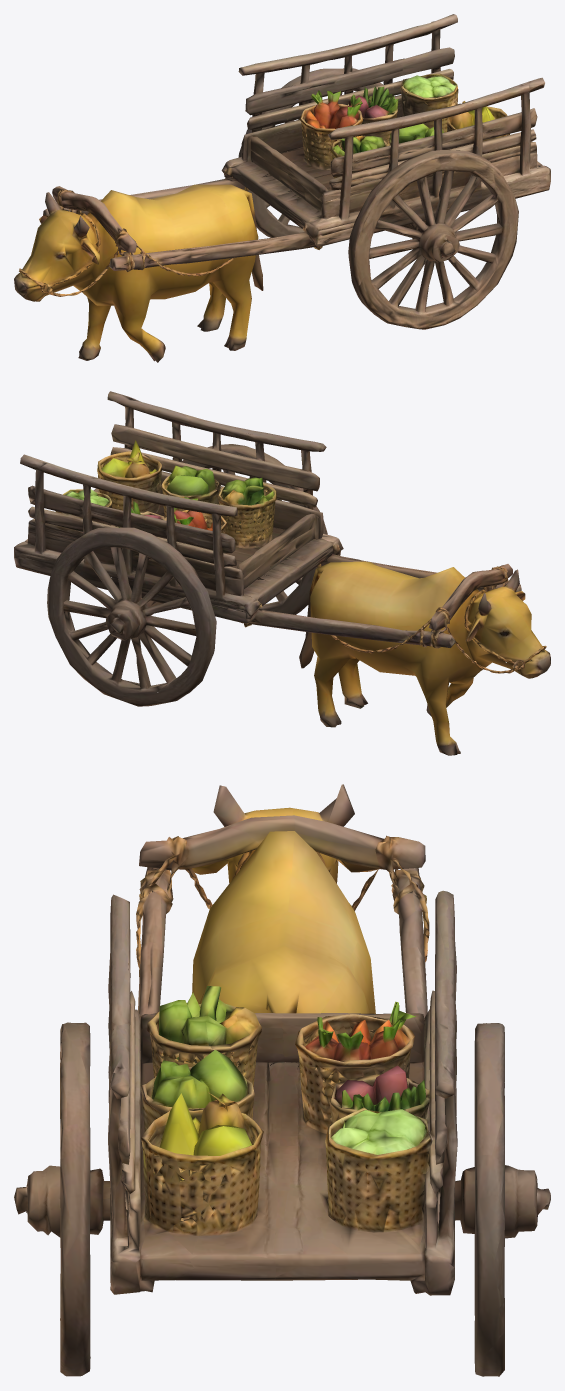
3 renders of one model, top to bottom at view 1: azimuth 30°, elevation 25°; view 2: azimuth 150°, elevation 25°; view 3: azimuth 270°, elevation 25°, orthographic. The views are drawn at different scales.
Parts seen in each view (by area): view 1: tripo_node_3d8f8758-ac8a-424e-9aa5-c139c53c9dc5; view 2: tripo_node_3d8f8758-ac8a-424e-9aa5-c139c53c9dc5; view 3: tripo_node_3d8f8758-ac8a-424e-9aa5-c139c53c9dc5.
Part boxes in pixels (x1=…): tripo_node_3d8f8758-ac8a-424e-9aa5-c139c53c9dc5: x1=14, y1=14, x2=550, y2=362; tripo_node_3d8f8758-ac8a-424e-9aa5-c139c53c9dc5: x1=14, y1=391, x2=550, y2=755; tripo_node_3d8f8758-ac8a-424e-9aa5-c139c53c9dc5: x1=14, y1=784, x2=550, y2=1376.
Size of the model in its own units: 0.9779 by 0.4258 by 0.4988.
1 material, 1 textured.
